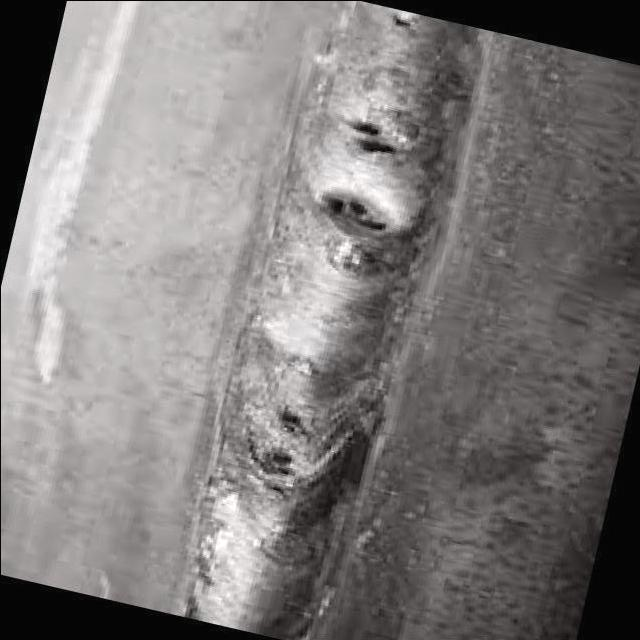defect: (313, 185, 399, 241), (338, 118, 405, 163), (246, 446, 298, 503), (260, 405, 309, 448), (381, 11, 416, 37)
